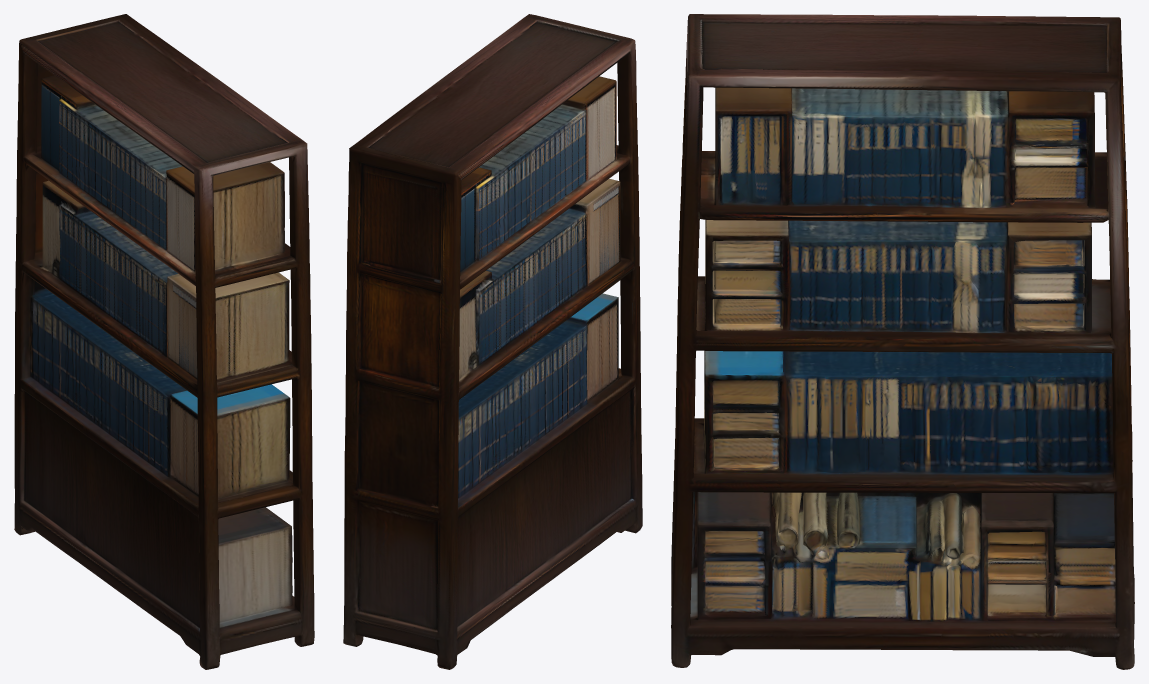
File: f_shujia.glb
The picture shows the model from 3 angles, left to right: view 1: azimuth 30°, elevation 25°; view 2: azimuth 150°, elevation 25°; view 3: azimuth 270°, elevation 25°; orthographic projection. The views are drawn at different scales.
Parts seen in each view (by area): view 1: tripo_node_f7d19eb8-e4cd-45e8-8652-8283af7e1a46; view 2: tripo_node_f7d19eb8-e4cd-45e8-8652-8283af7e1a46; view 3: tripo_node_f7d19eb8-e4cd-45e8-8652-8283af7e1a46.
Boxes of the visible parts, x1,y1,x2,y2 form: tripo_node_f7d19eb8-e4cd-45e8-8652-8283af7e1a46: [14, 14, 314, 669]; tripo_node_f7d19eb8-e4cd-45e8-8652-8283af7e1a46: [343, 14, 642, 669]; tripo_node_f7d19eb8-e4cd-45e8-8652-8283af7e1a46: [671, 14, 1134, 669].
Bounding box in the file's own units: 0.2283 × 1 × 0.7057.
1 material, 1 textured.
